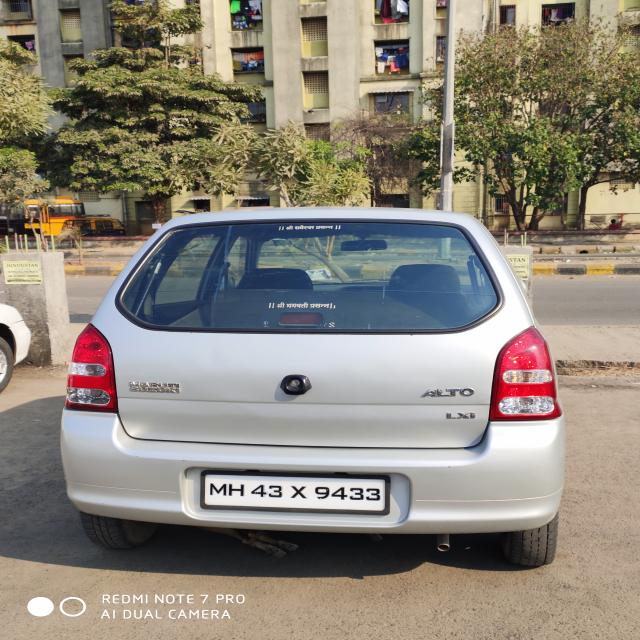Number-Plate: (205, 474, 388, 510)
